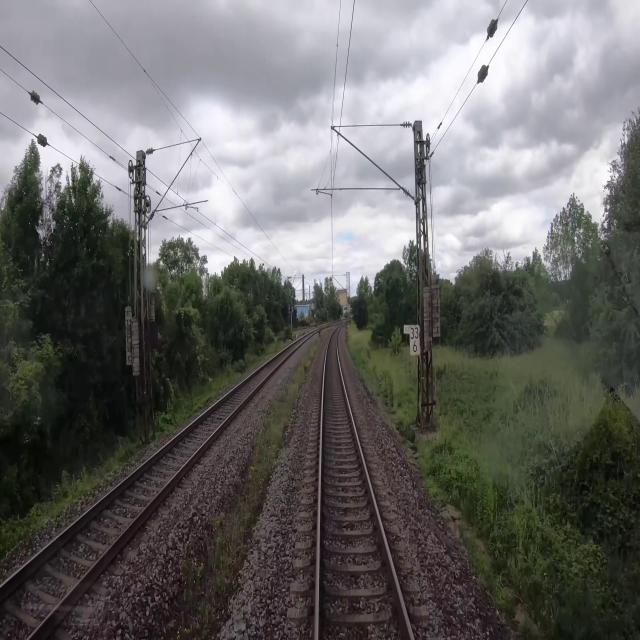Plant: (164, 335, 320, 639)
